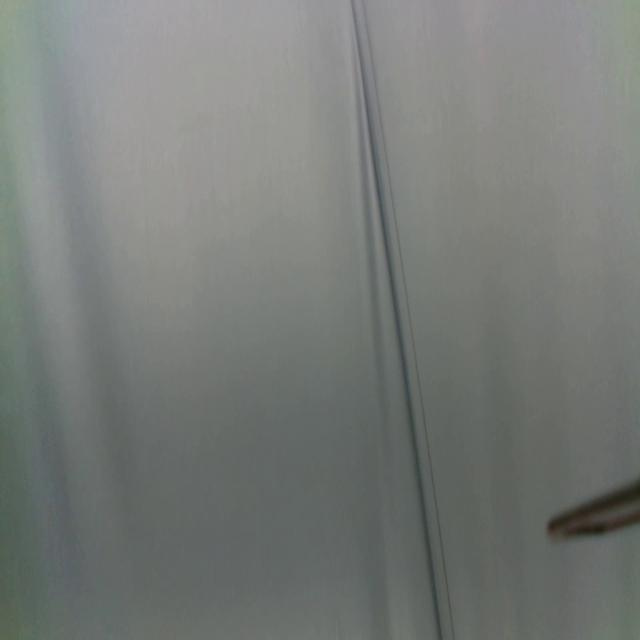crease: (352, 0, 455, 640)
